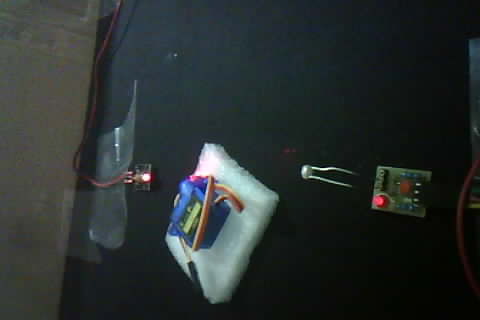motor: (159, 146, 268, 294)
